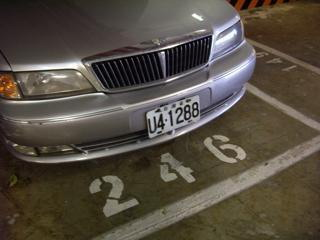plate: (143, 98, 202, 133)
